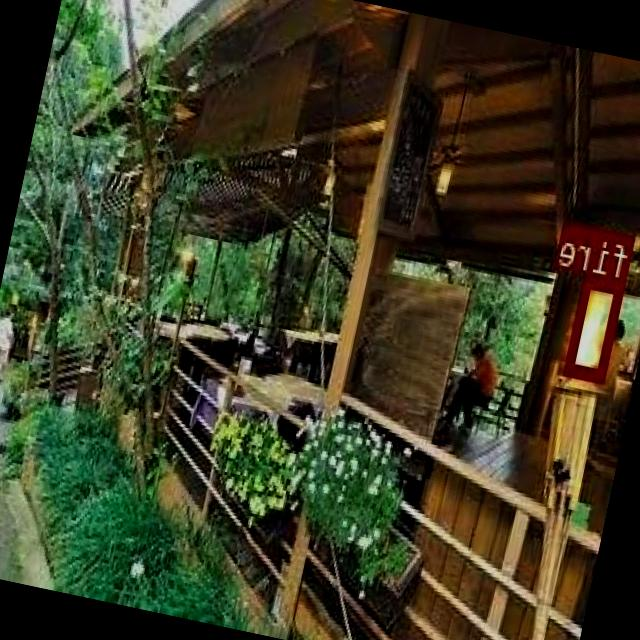fire: (565, 272, 626, 381)
